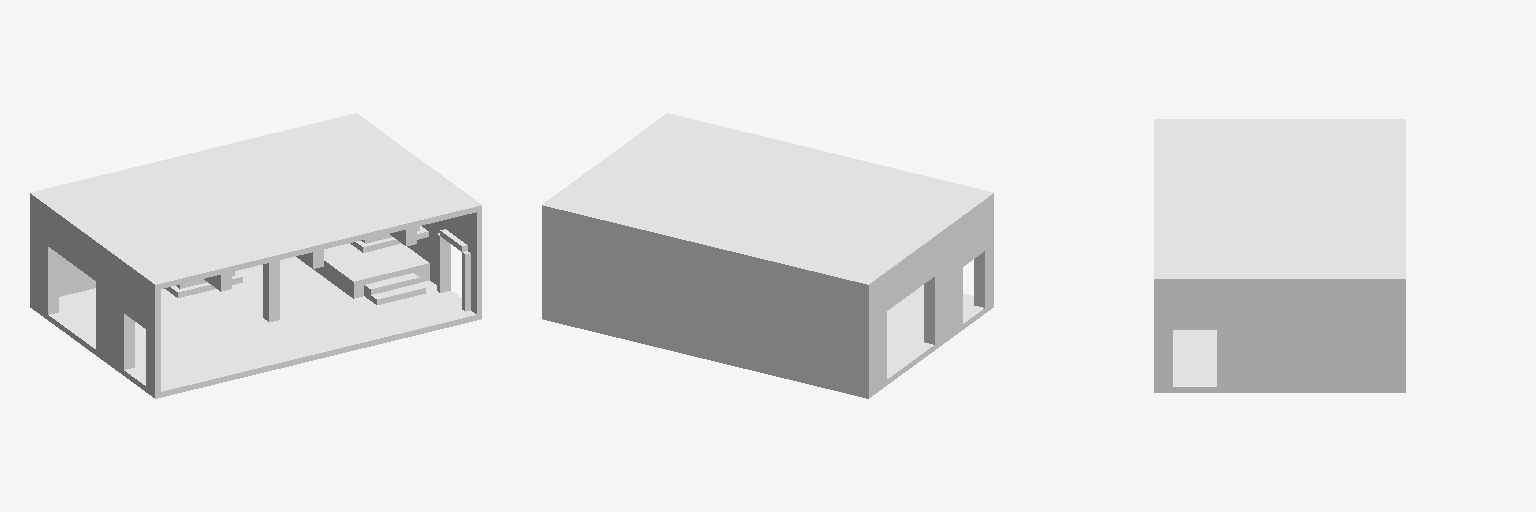
Rendered from Volt-6.obj.
3 views of the same model, side by side, from view 1: azimuth 30°, elevation 25°; view 2: azimuth 150°, elevation 25°; view 3: azimuth 270°, elevation 25° (orthographic).
Visible parts, largest first — view 1: object 1; view 2: object 1; view 3: object 1.
Part boxes in pixels (x1,y1,x2,y2): object 1: (30,113,481,398); object 1: (542,113,993,398); object 1: (1154,119,1405,392).
Size of the model in its own units: 6 by 2 by 4.